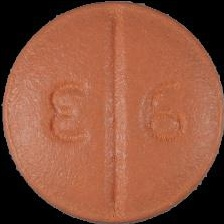49999-630: (0, 0, 224, 224)
